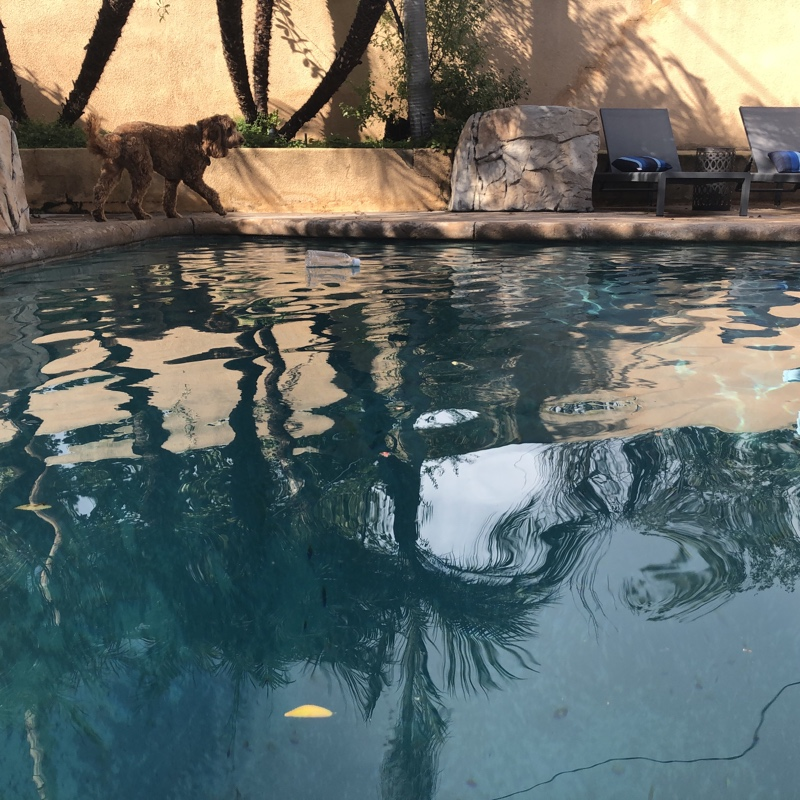Plastic Bottle: (301, 245, 361, 272)
